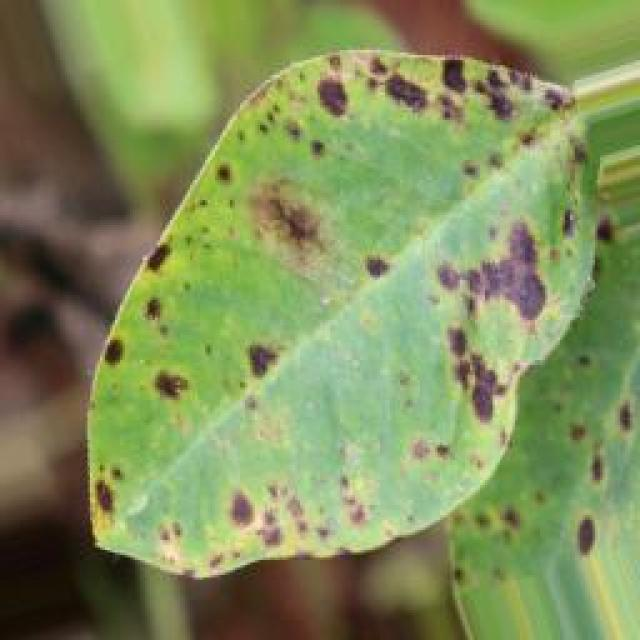Yellowish: (70, 50, 633, 594)
